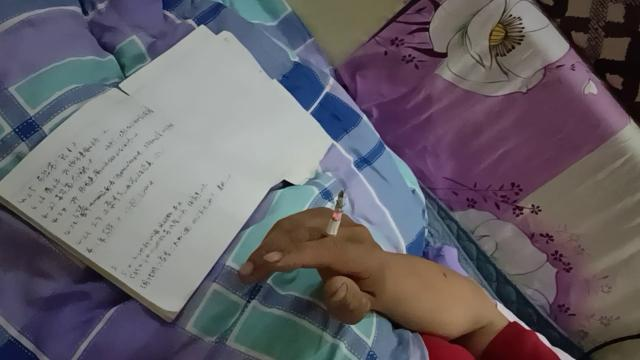Cigarette: (320, 190, 346, 248)
